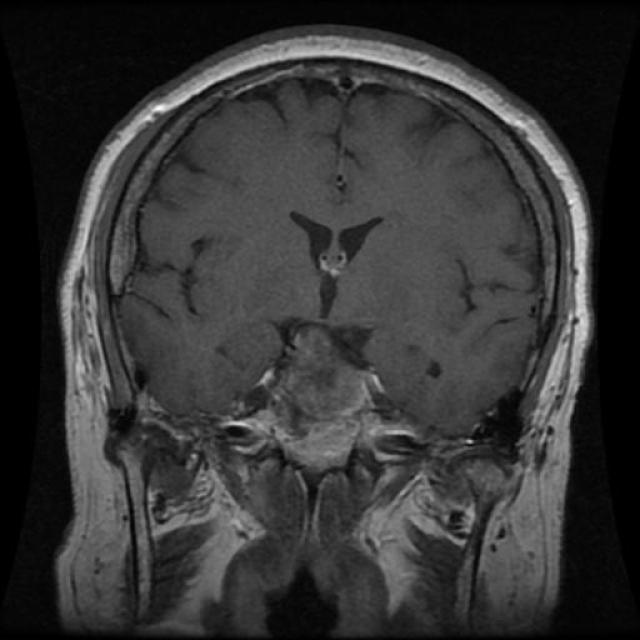pituitary: (262, 306, 378, 467)
